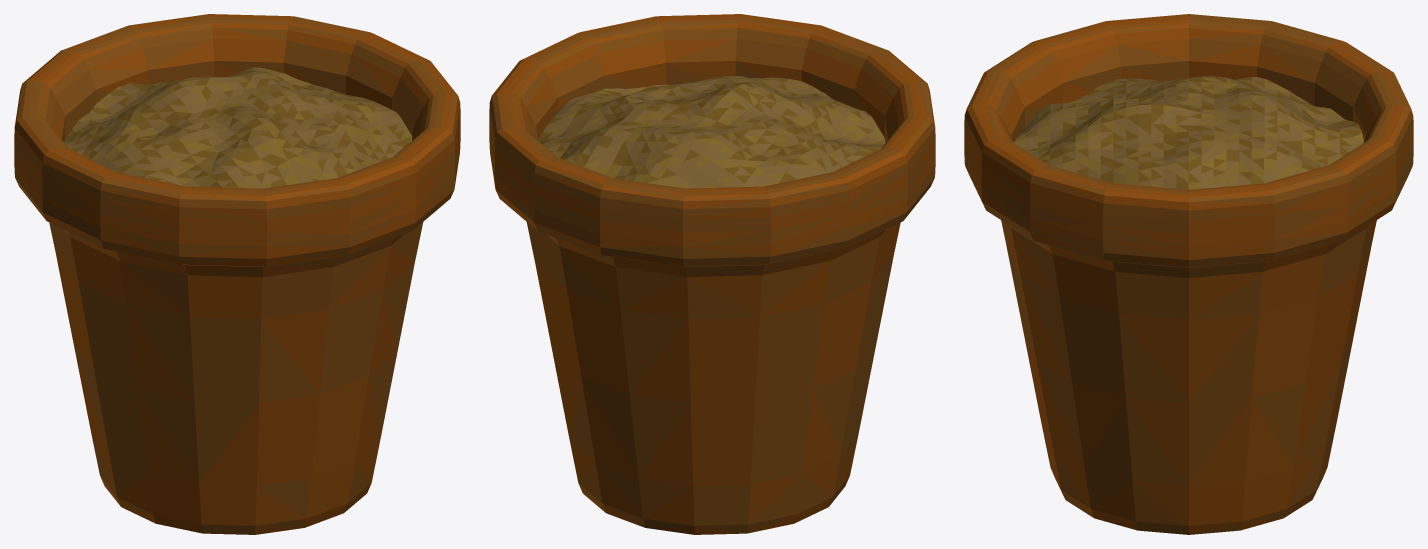
The model's file is горшок.fbx.
The picture shows the model from 3 angles, left to right: view 1: azimuth 30°, elevation 25°; view 2: azimuth 150°, elevation 25°; view 3: azimuth 270°, elevation 25°; orthographic projection.
Visible parts, largest first — view 1: горшок; view 2: горшок; view 3: горшок.
Part boxes in pixels (bbox=[...]): горшок: bbox=[14, 14, 460, 534]; горшок: bbox=[489, 14, 935, 534]; горшок: bbox=[964, 14, 1413, 534].
Bounding box in the file's own units: 298 × 275 × 298.
